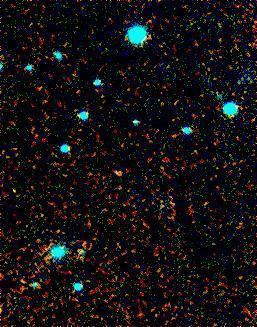star: (106, 159, 136, 189)
